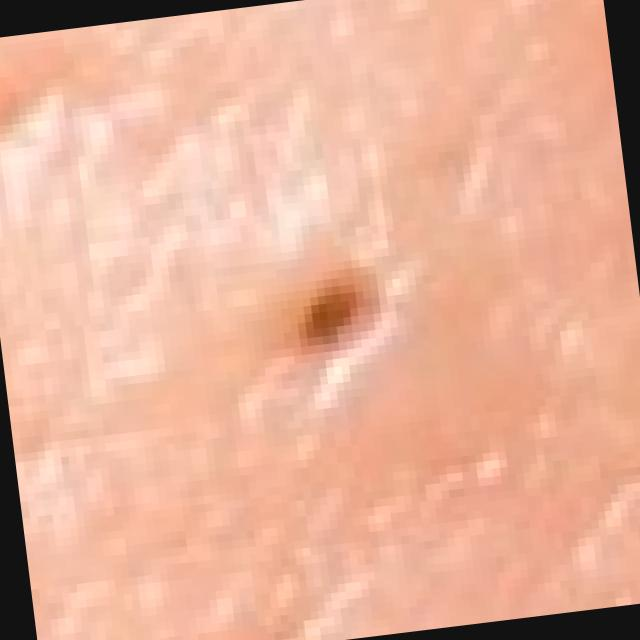blackhead: (302, 286, 360, 343)
